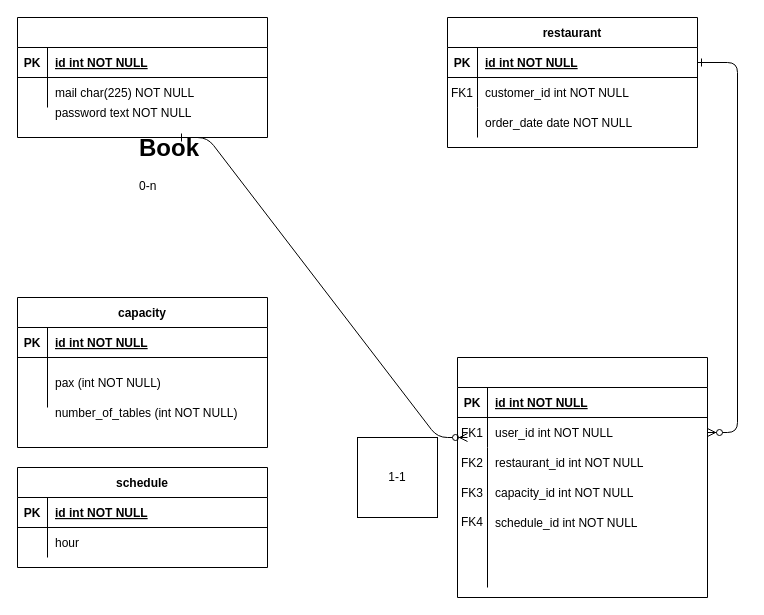
This 764x615 diagram has some shape labels left out. Each missing label, with the box of its shape:
booking: (456, 356, 708, 598)
user: (16, 16, 268, 138)
